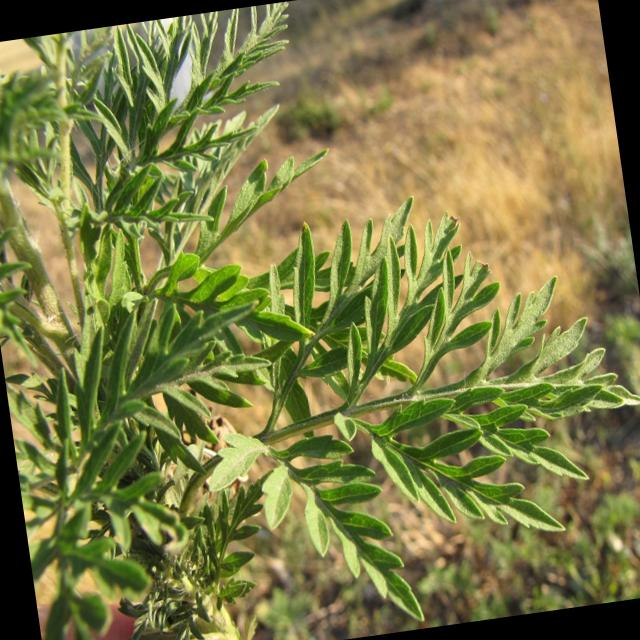ambrosia: (56, 139, 640, 640)
